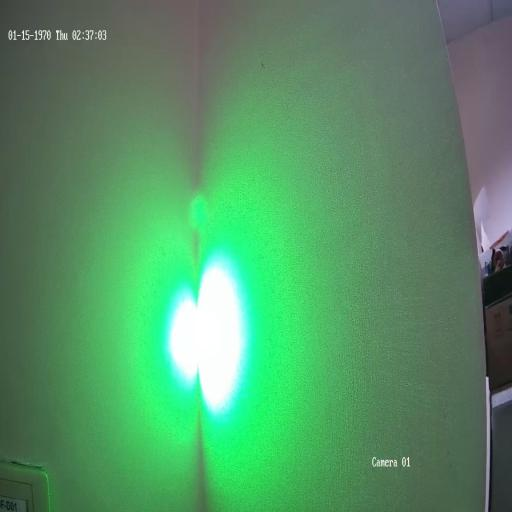laser: (152, 247, 255, 425)
